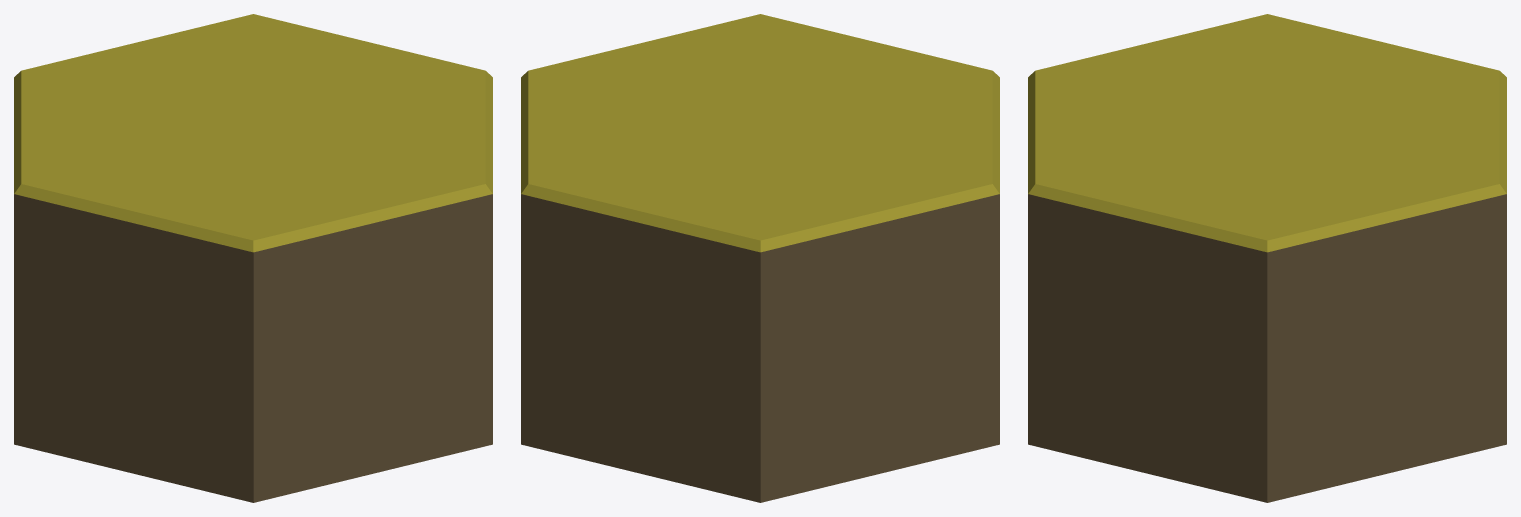
File: Gaia_PlantableGrass.fbx
3 renders of one model, left to right at view 1: azimuth 30°, elevation 25°; view 2: azimuth 150°, elevation 25°; view 3: azimuth 270°, elevation 25°, orthographic.
Parts seen in each view (by area): view 1: Model; view 2: Model; view 3: Model.
Boxes of the visible parts, x1,y1,x2,y2 form: Model: [14, 14, 492, 502]; Model: [521, 14, 999, 502]; Model: [1028, 14, 1506, 502].
Size of the model in its own units: 6 by 3.1 by 5.2.
